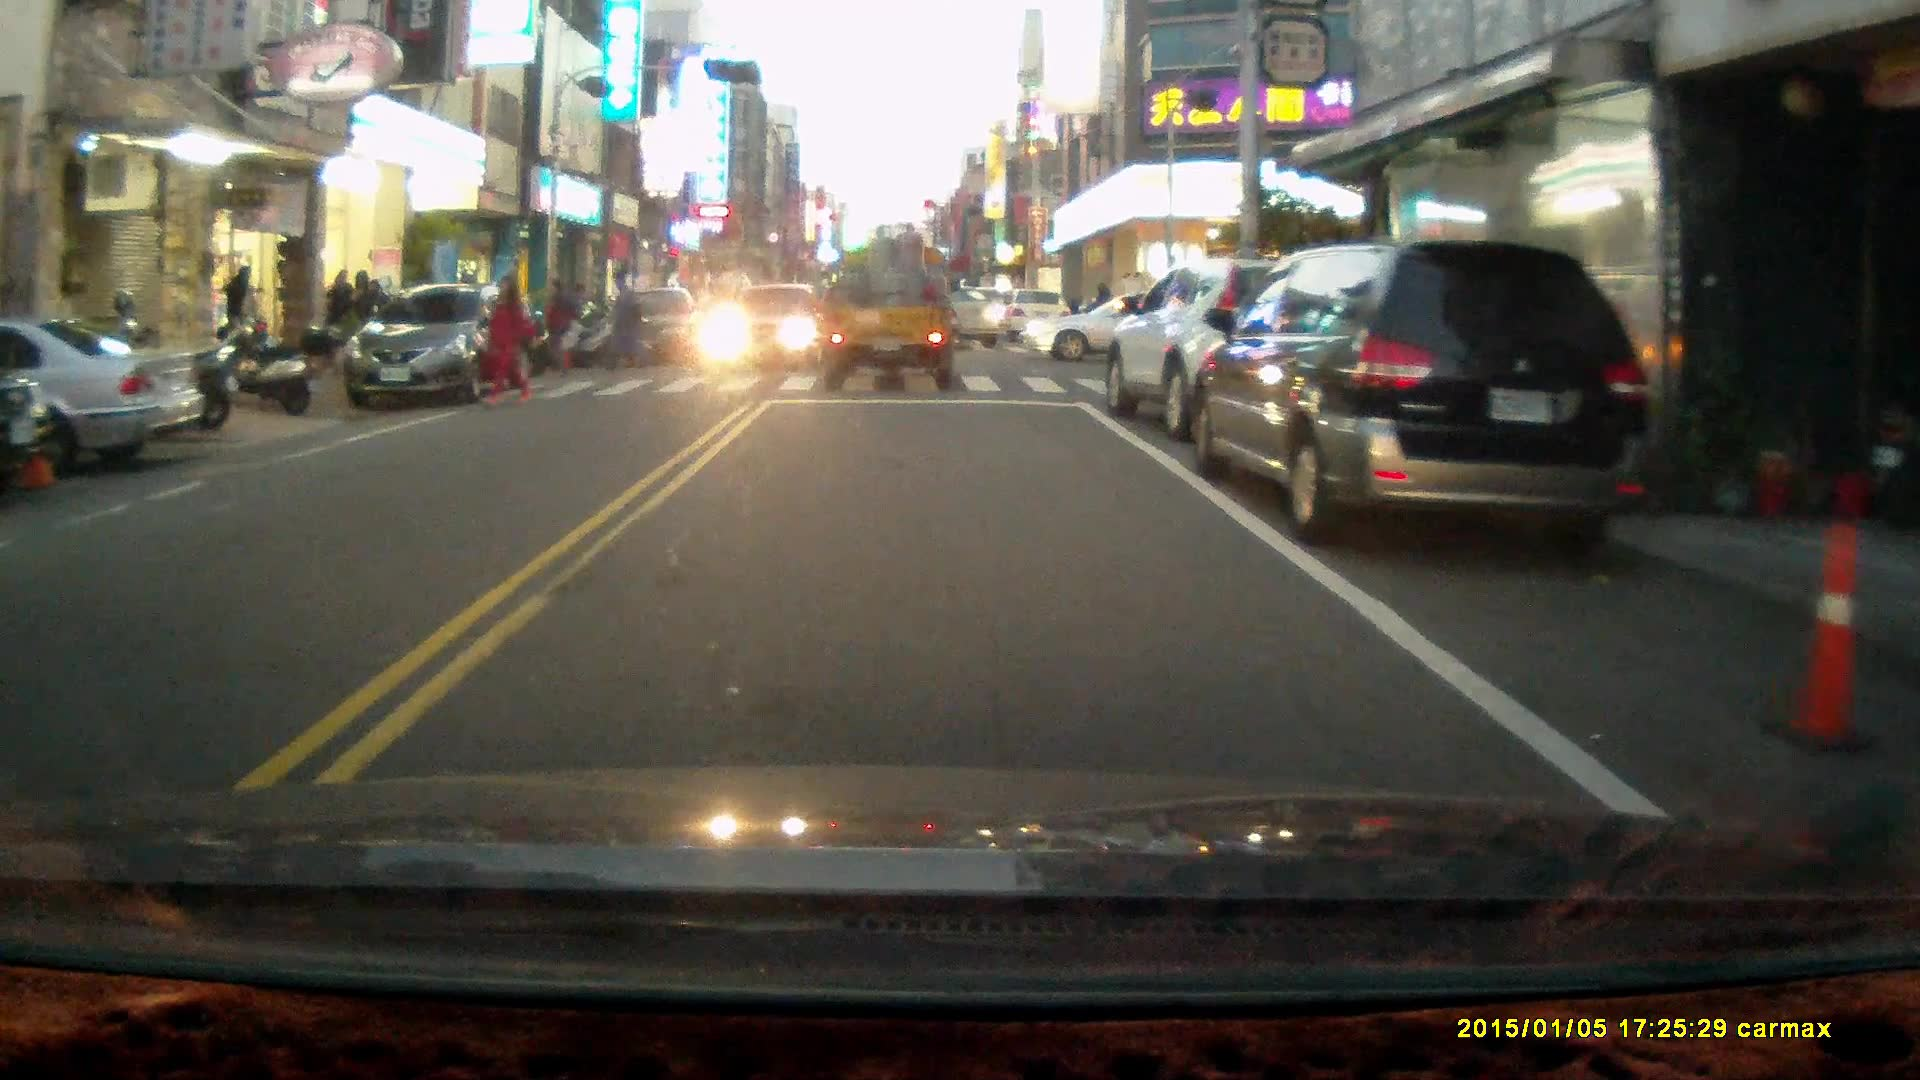pedestrian: (481, 271, 531, 410), (602, 264, 649, 371), (534, 280, 575, 381), (222, 263, 263, 362), (555, 308, 586, 372)
vehicle: (1193, 239, 1650, 561), (1100, 255, 1409, 450), (1, 317, 209, 483), (818, 226, 967, 395), (345, 284, 535, 411), (1020, 291, 1243, 367), (703, 283, 823, 367), (592, 291, 708, 375), (893, 284, 1006, 352)
